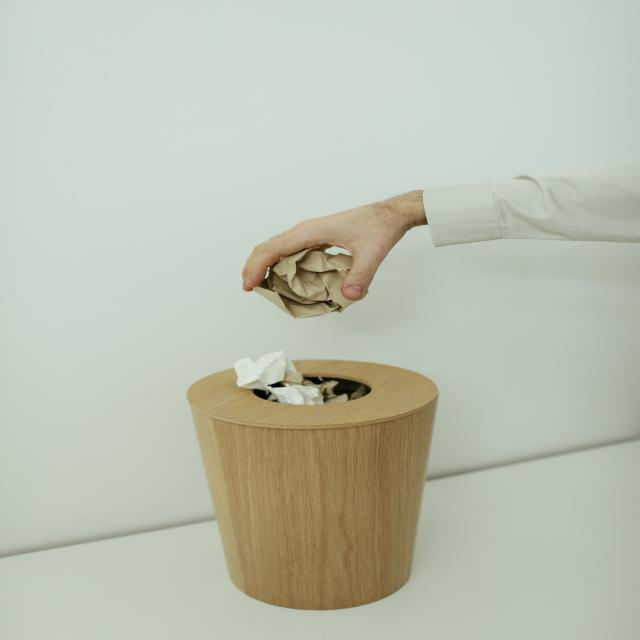cardboard: (268, 268, 332, 311)
paper: (248, 364, 316, 401)
